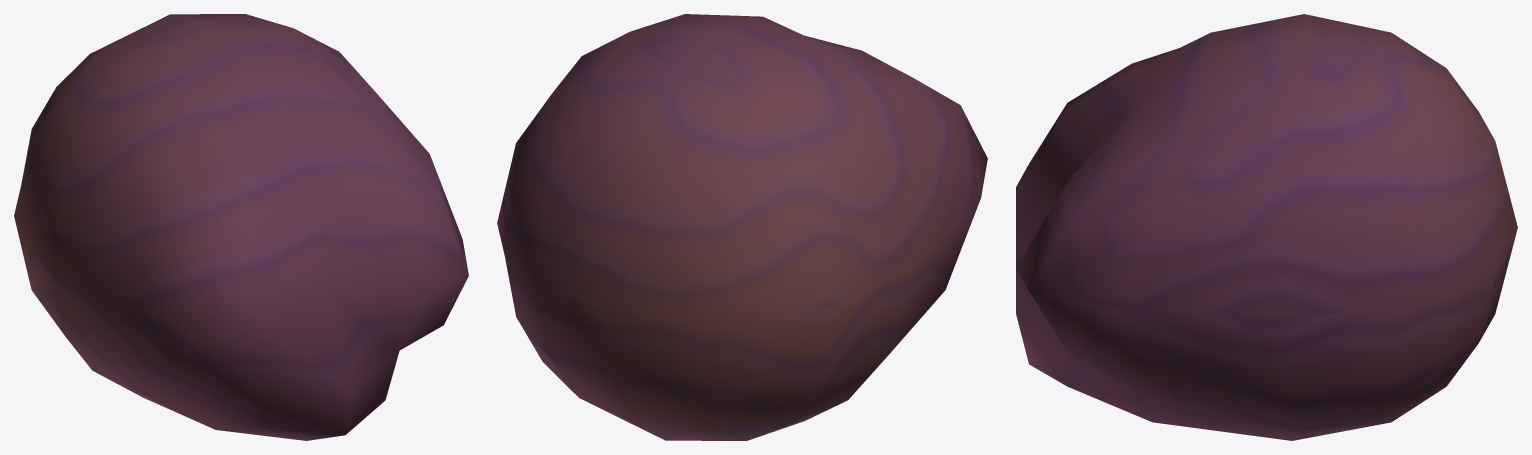
The model's file is SM_MudProjectile.fbx.
The picture shows the model from 3 angles, left to right: view 1: azimuth 30°, elevation 25°; view 2: azimuth 150°, elevation 25°; view 3: azimuth 270°, elevation 25°; orthographic projection. The views are drawn at different scales.
Parts seen in each view (by area): view 1: SM_MudProjectile; view 2: SM_MudProjectile; view 3: SM_MudProjectile.
Part boxes in pixels (left/top/right/bottom): SM_MudProjectile: left=14, top=14, right=468, bottom=440; SM_MudProjectile: left=497, top=14, right=987, bottom=440; SM_MudProjectile: left=1016, top=14, right=1517, bottom=440.
Size of the model in its own units: 1.8 by 2.12 by 1.8.
